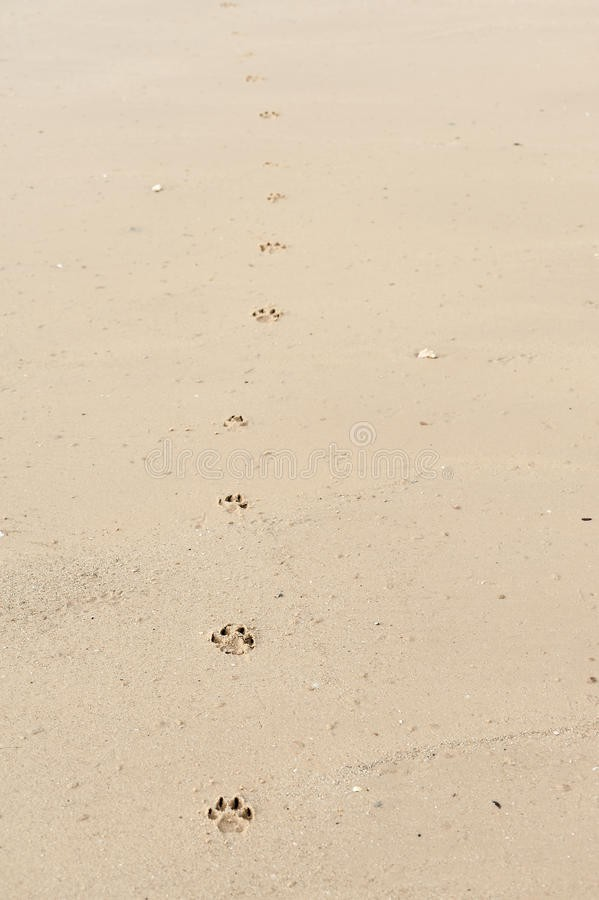human_foot_print: (201, 612, 262, 666), (204, 784, 259, 838), (211, 487, 260, 525), (253, 301, 290, 331), (224, 407, 251, 442), (263, 187, 293, 210), (263, 240, 294, 258)
